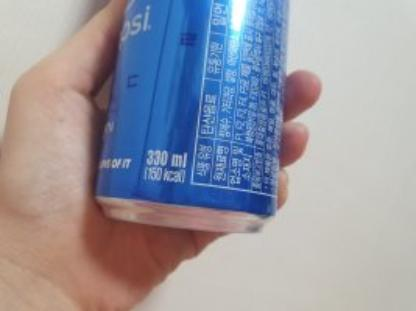Can: (92, 0, 292, 232)
